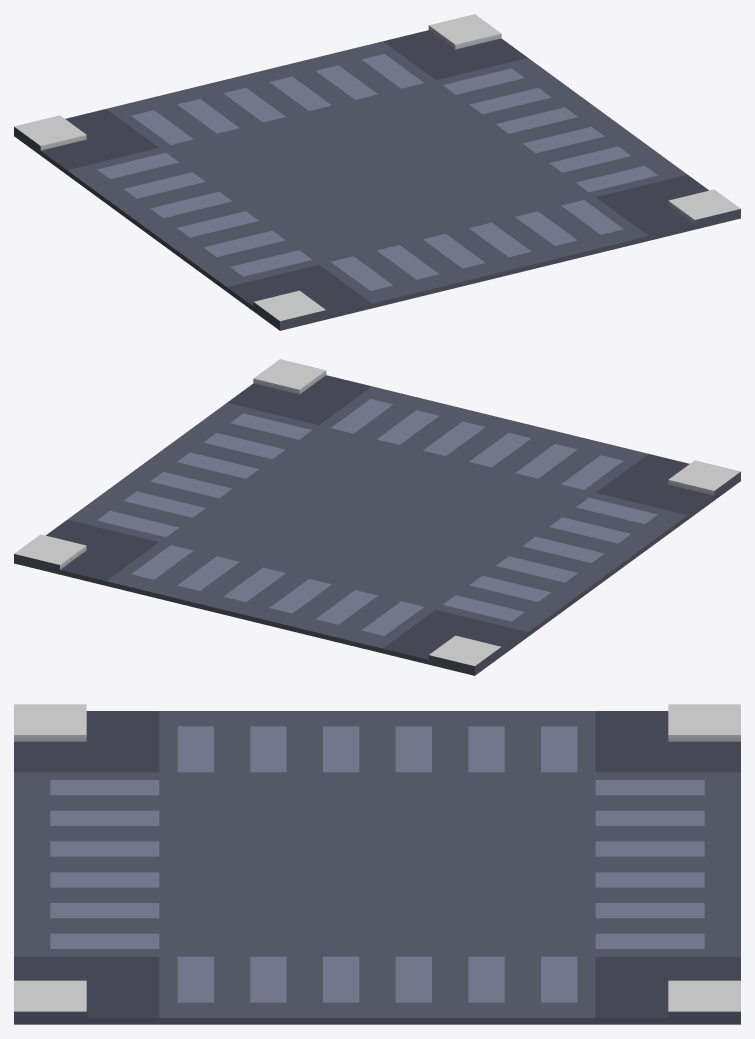
File: road-crossroad-path.glb
3 views of the same model, one above another, from view 1: azimuth 30°, elevation 25°; view 2: azimuth 150°, elevation 25°; view 3: azimuth 270°, elevation 25° (orthographic). The views are drawn at different scales.
Visible parts, largest first — view 1: road-crossroad-path; view 2: road-crossroad-path; view 3: road-crossroad-path.
Part boxes in pixels (<box>): road-crossroad-path: <box>14,14,740,330</box>; road-crossroad-path: <box>14,359,740,675</box>; road-crossroad-path: <box>14,704,740,1024</box>.
Bounding box in the file's own units: 1 × 0.02 × 1.
